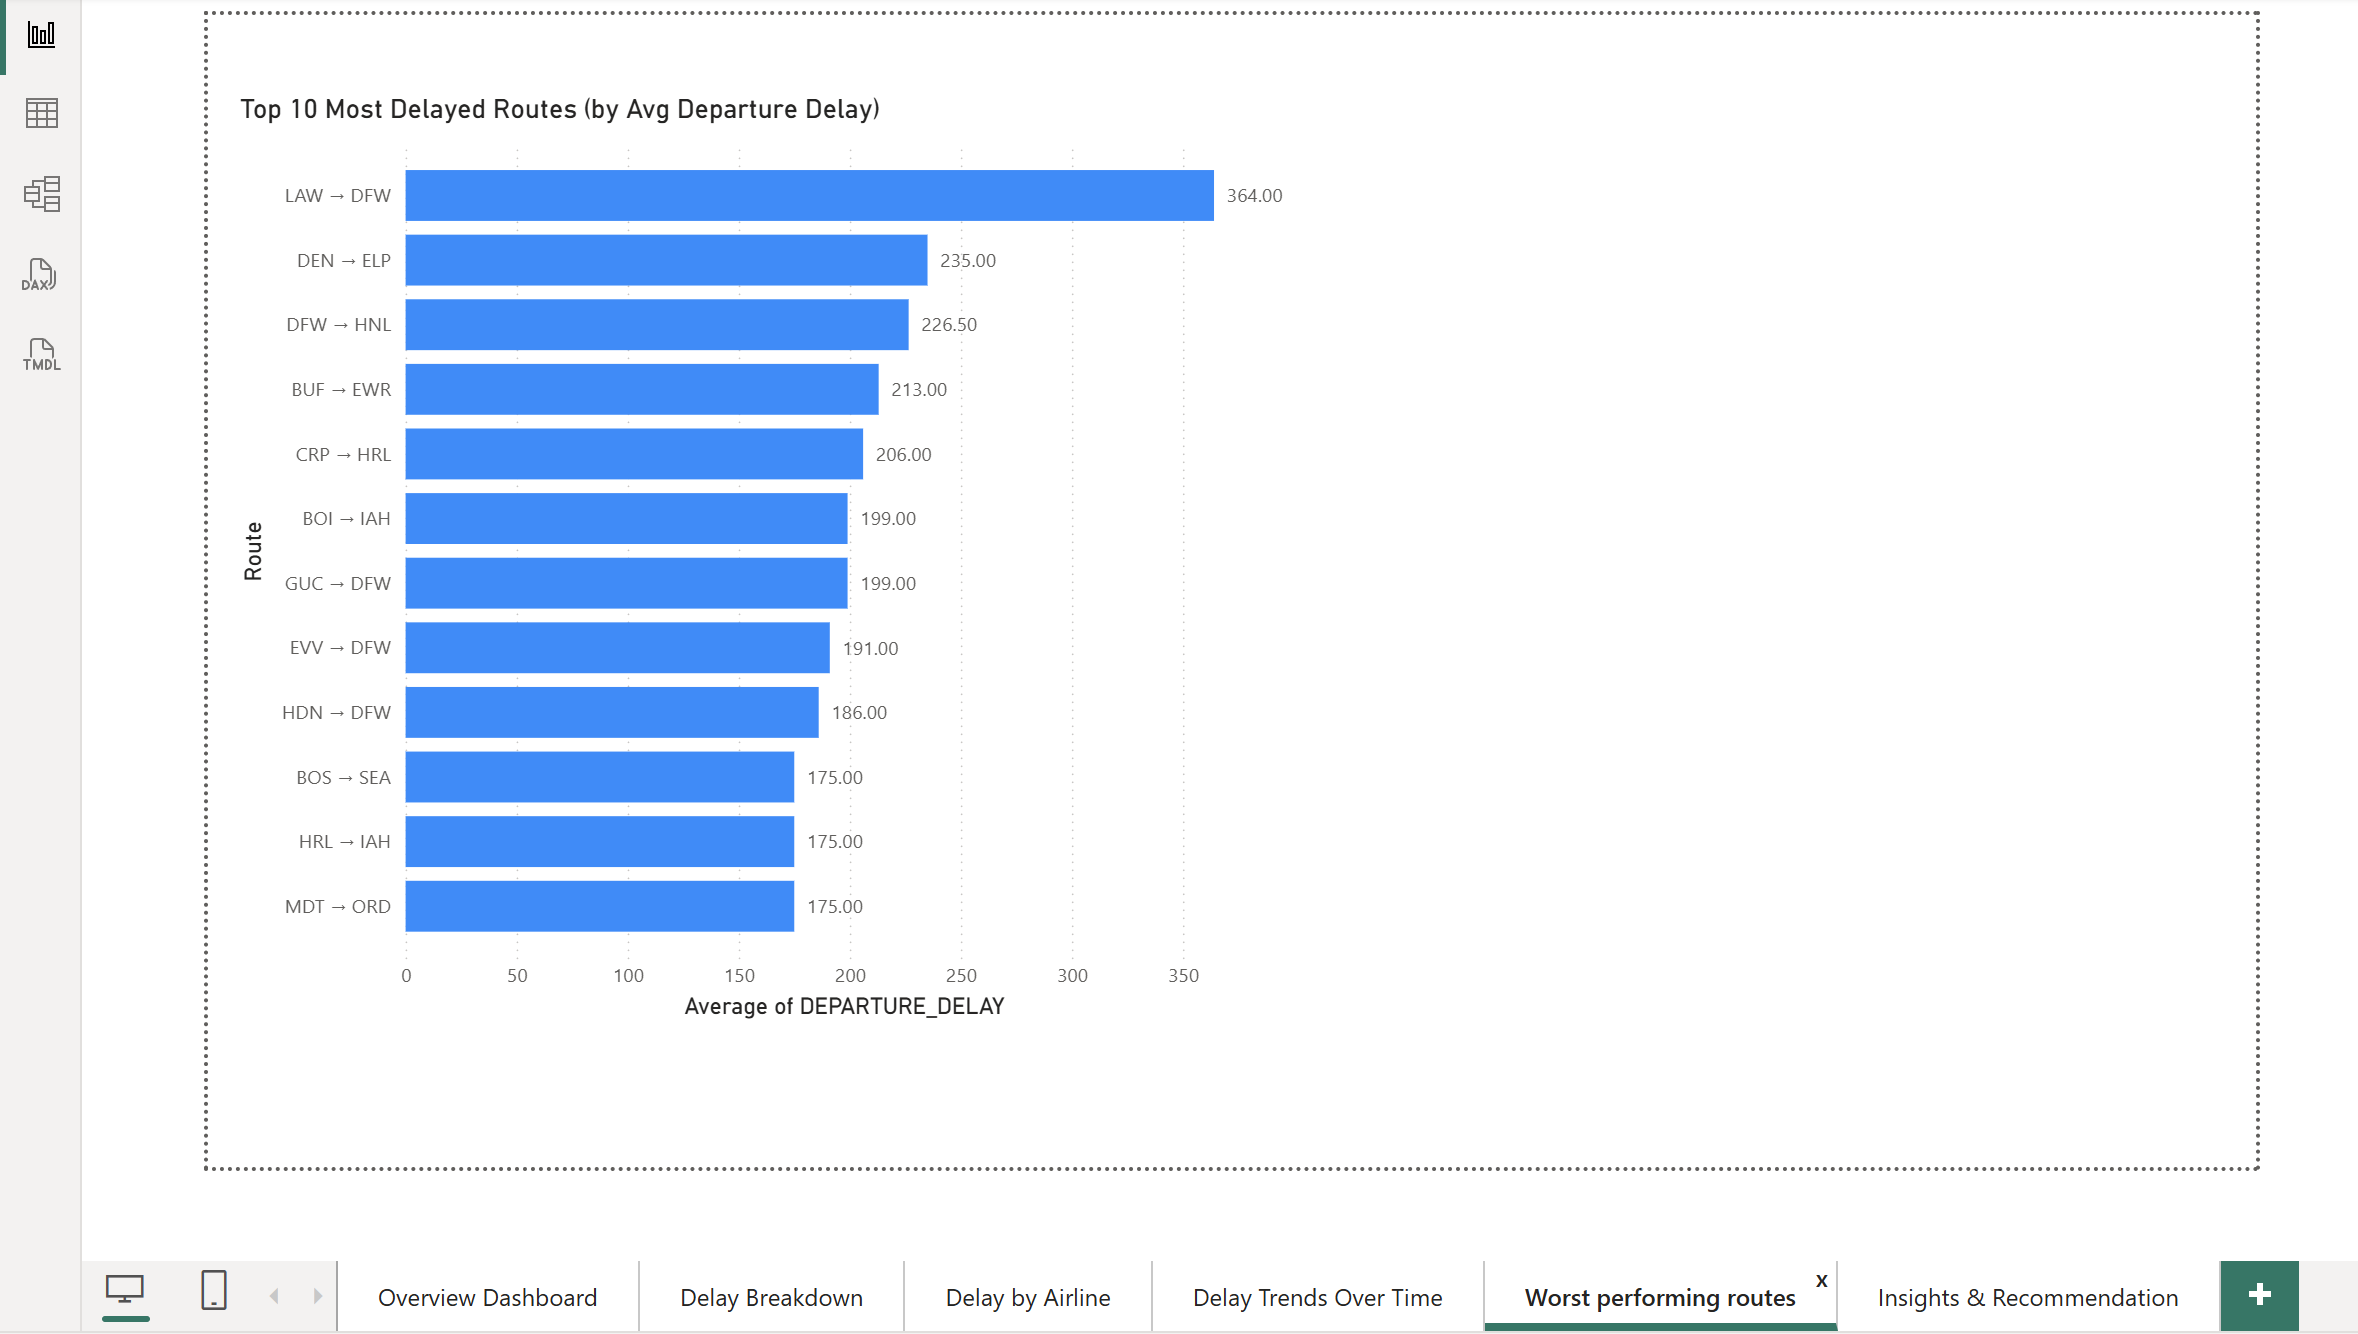

The dashboard page shown, as its layout file describes it:
{"tool":"powerbi","page":{"name":"Worst performing routes","canvas":[1280,720],"ordinal":4},"visuals":[{"type":"clusteredBarChart","title":"Top 10 Most Delayed Routes (by Avg Departure Delay)","fields":{"Y":["Avg(flights.DEPARTURE_DELAY)"],"Category":["flights.Route"]},"box":[14.4,48.9,672.2,583.3],"z":0}]}

Visuals, with their boxes on the page's 1280x720 design canvas (x1, y1, x2, y2). These are canvas units, not pixel positions in the 2358x1334 screenshot, which may show the page scaled, cropped or inside an application window:
"Top 10 Most Delayed Routes (by Avg Departure Delay)" clusteredBarChart: crop(14, 49, 687, 632)
